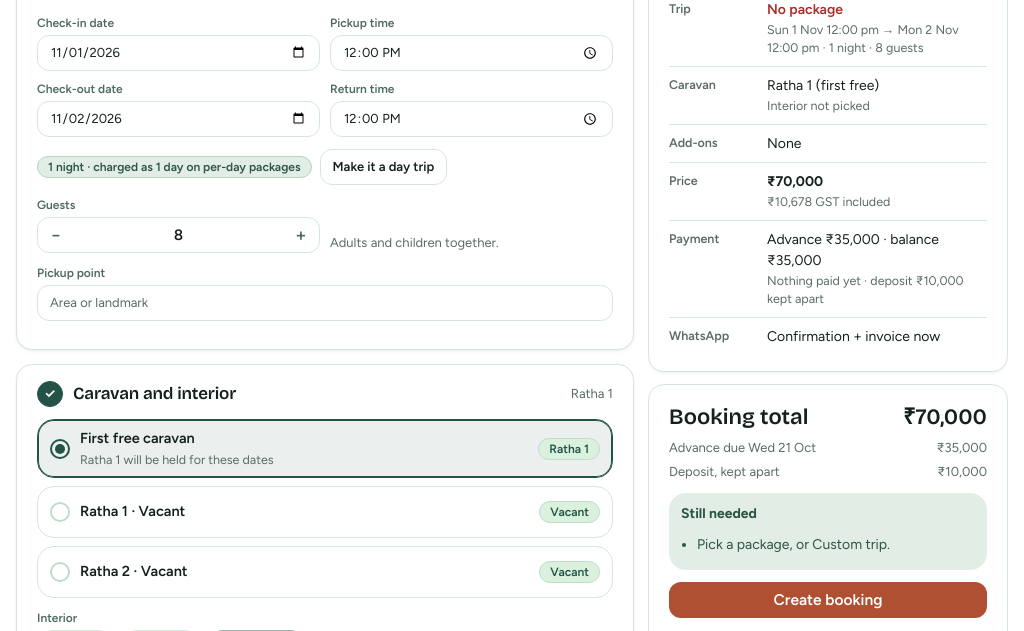
Test: NewBookingFlow › opens from a lead, and Create with problems flags the section and scrolls to it instead of saving
(page scrolled)
Click the button "Create booking". click: click(828, 600)
box: [669,582,987,618]
(page scrolled)
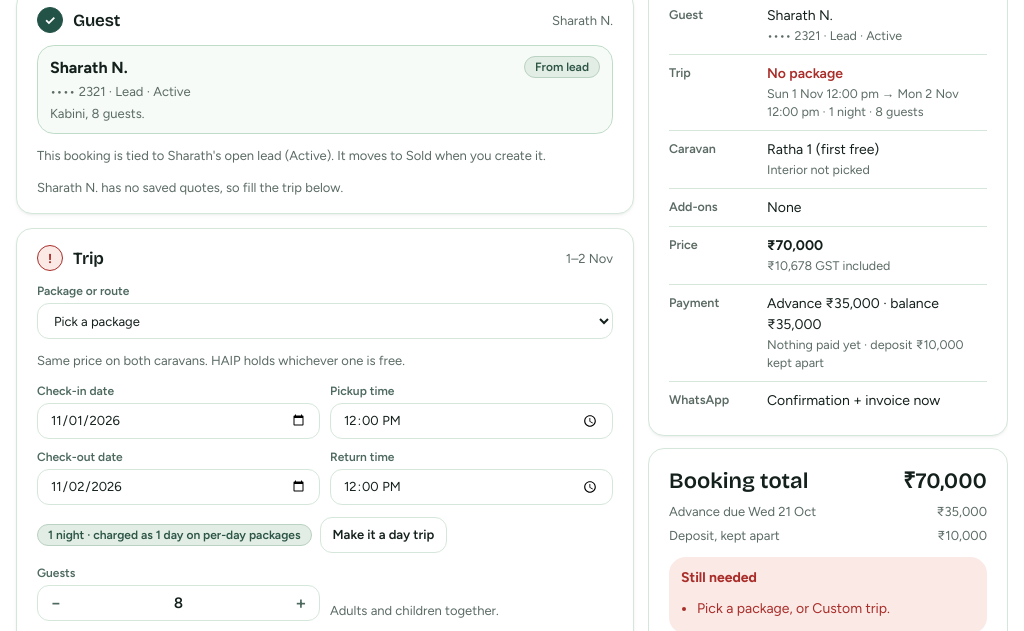
Expected: the text with test id "mark-sec-trip" reads "!", [48,250,52,266]
